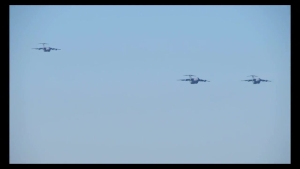flight: (176, 74, 210, 85), (32, 42, 61, 54), (240, 74, 272, 84)
